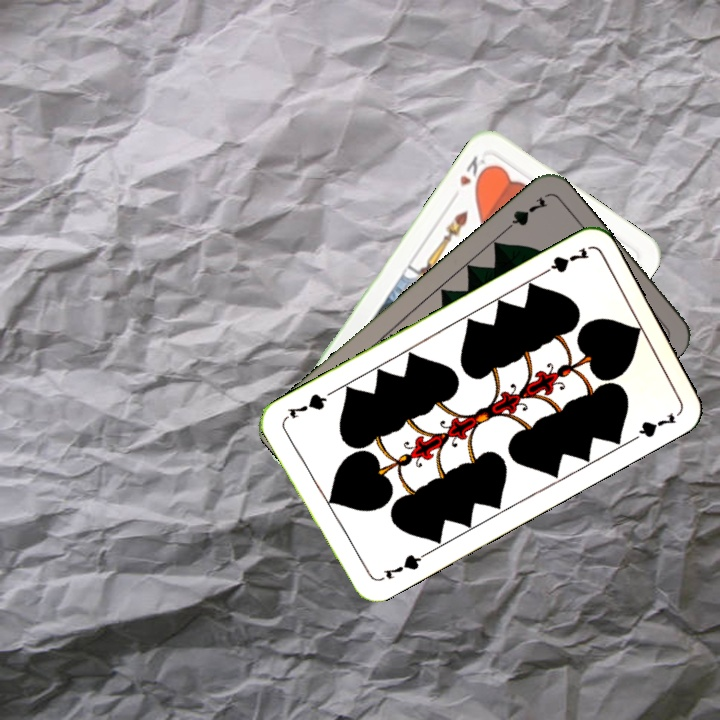G7: (498, 192, 551, 236), (535, 244, 592, 279), (379, 549, 428, 582)
HK: (455, 151, 492, 191)
